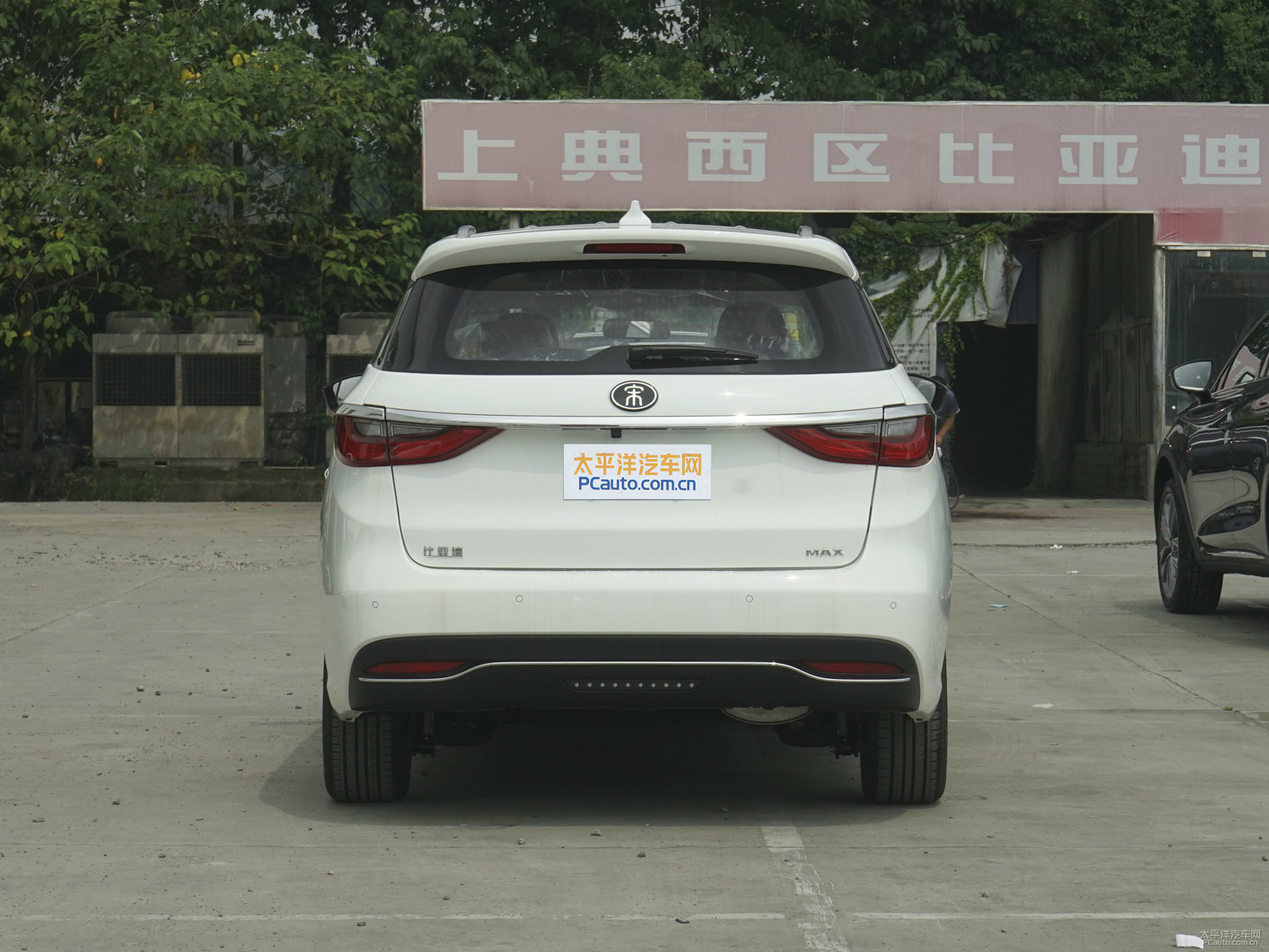BYD Song: (610, 381, 658, 412)
